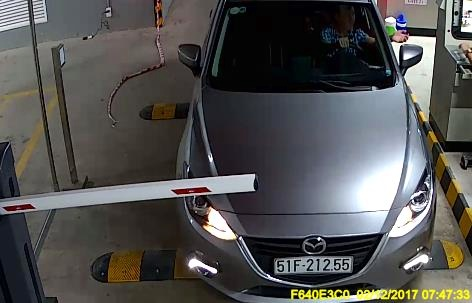plate: (273, 256, 353, 277)
